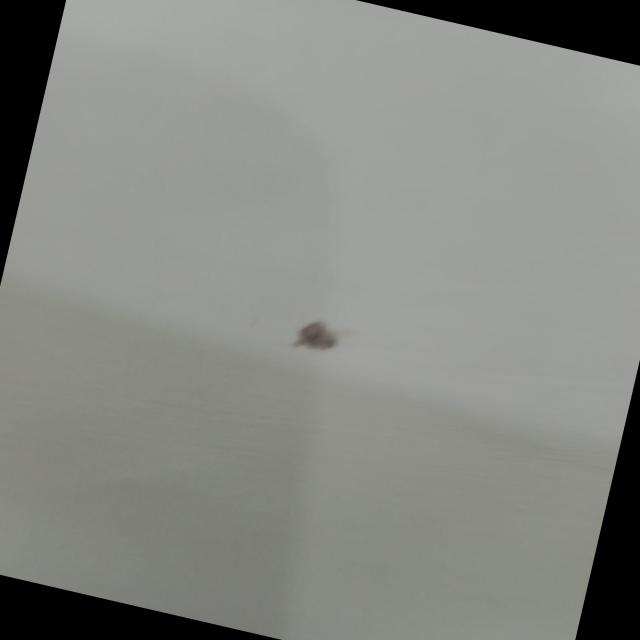stain: (271, 298, 368, 367)
